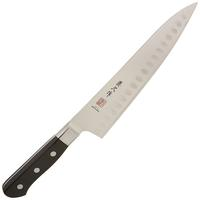knife: (4, 2, 197, 200)
